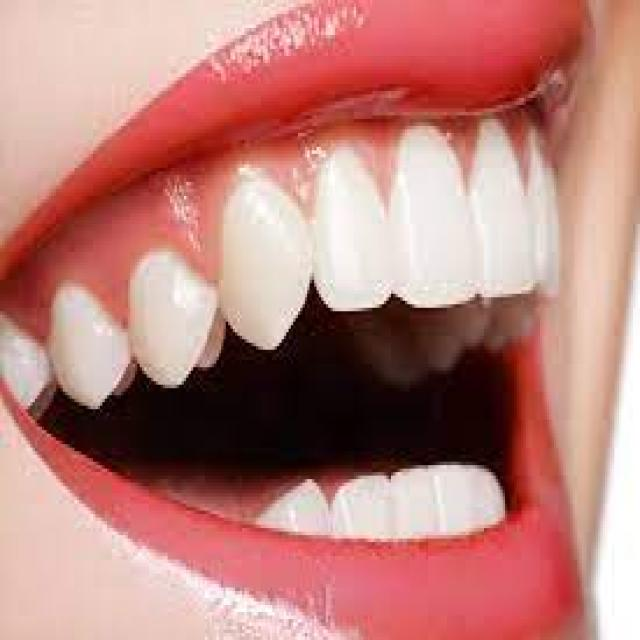tooth: (379, 133, 482, 304), (44, 283, 140, 409), (114, 252, 221, 353), (477, 115, 531, 301), (324, 143, 386, 287), (253, 189, 296, 318), (330, 472, 391, 553), (528, 164, 568, 280), (472, 468, 519, 552), (256, 482, 326, 532), (436, 458, 472, 539), (2, 328, 46, 392), (396, 479, 438, 535)
